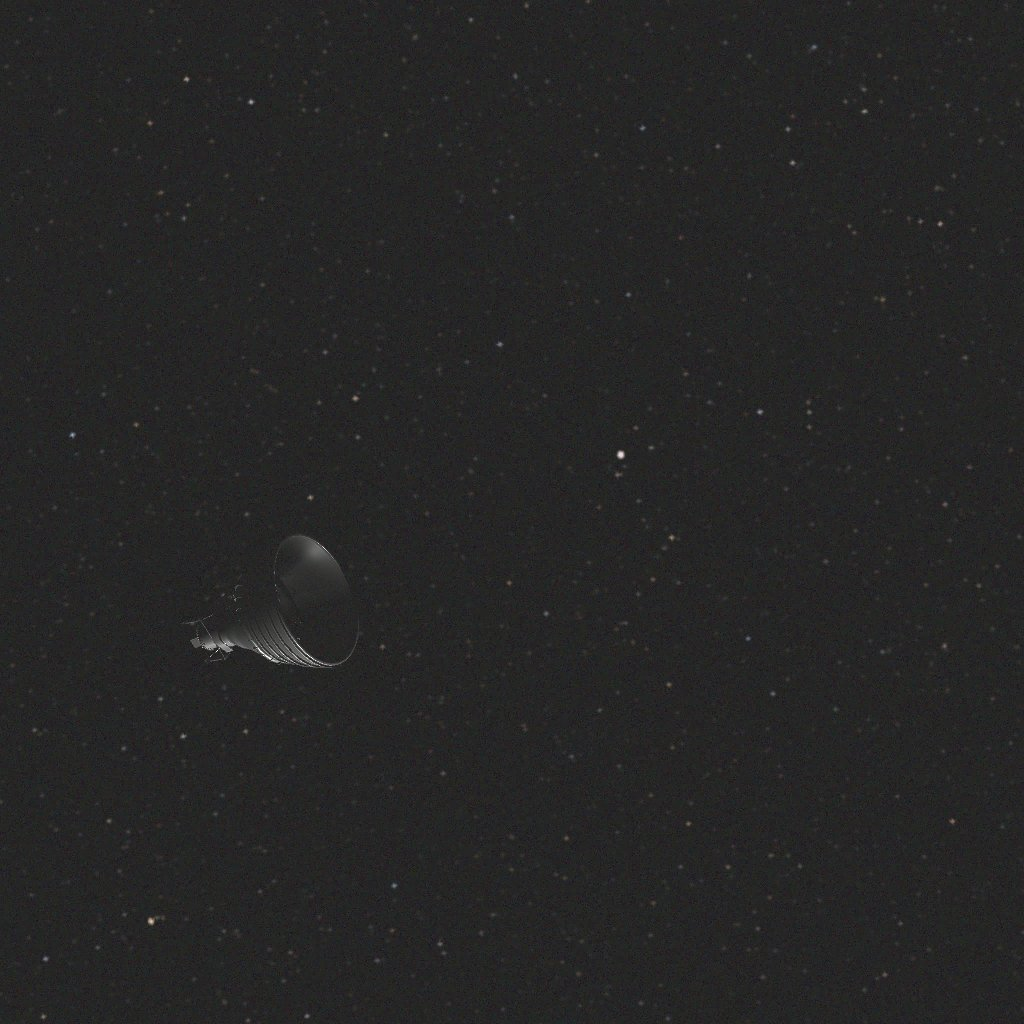debris: (180, 531, 359, 668)
